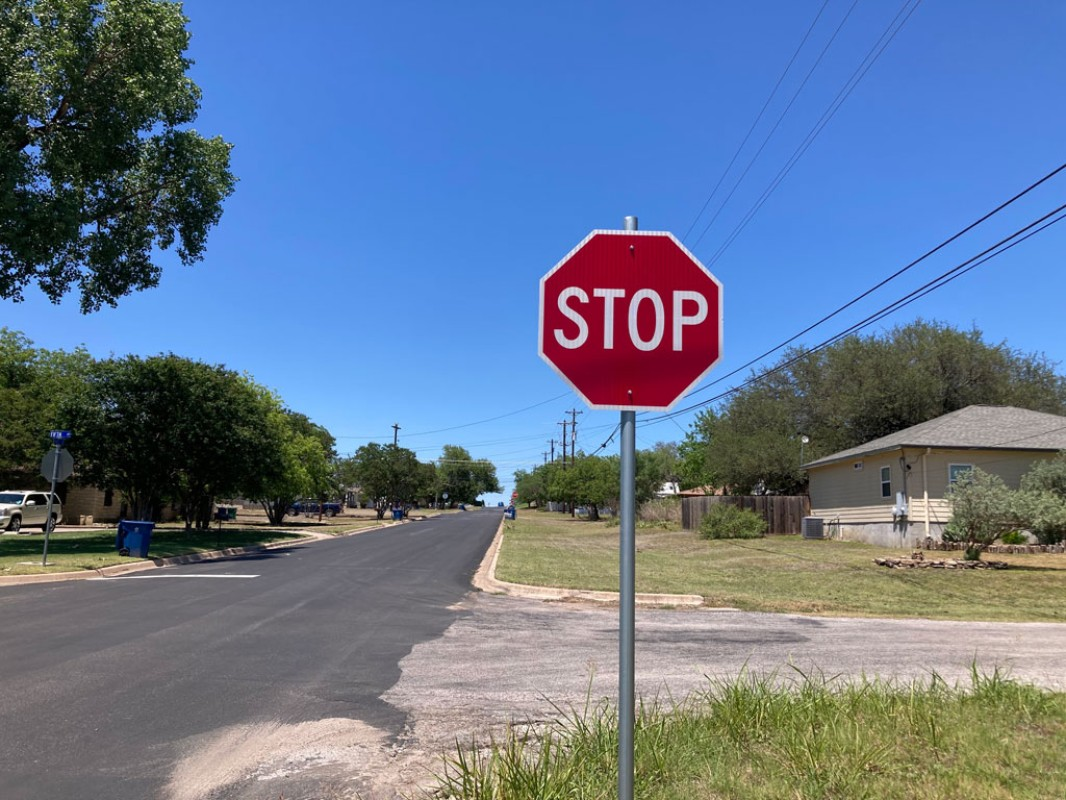stop: (535, 226, 728, 419)
